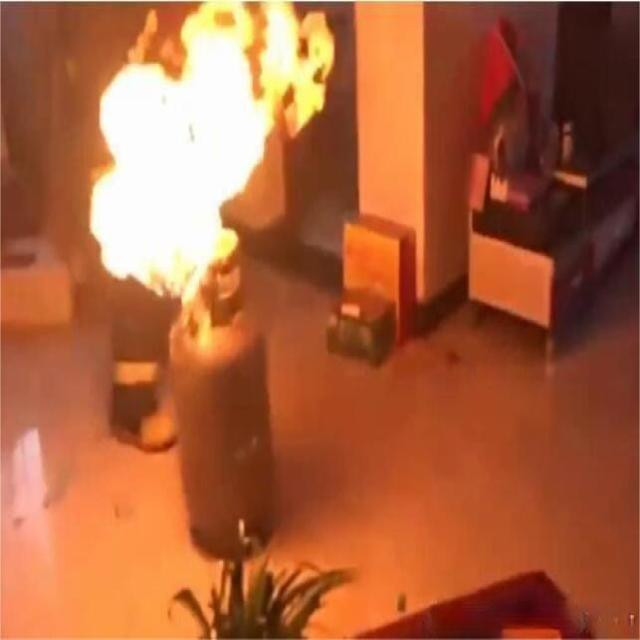Fire: (85, 0, 332, 303)
